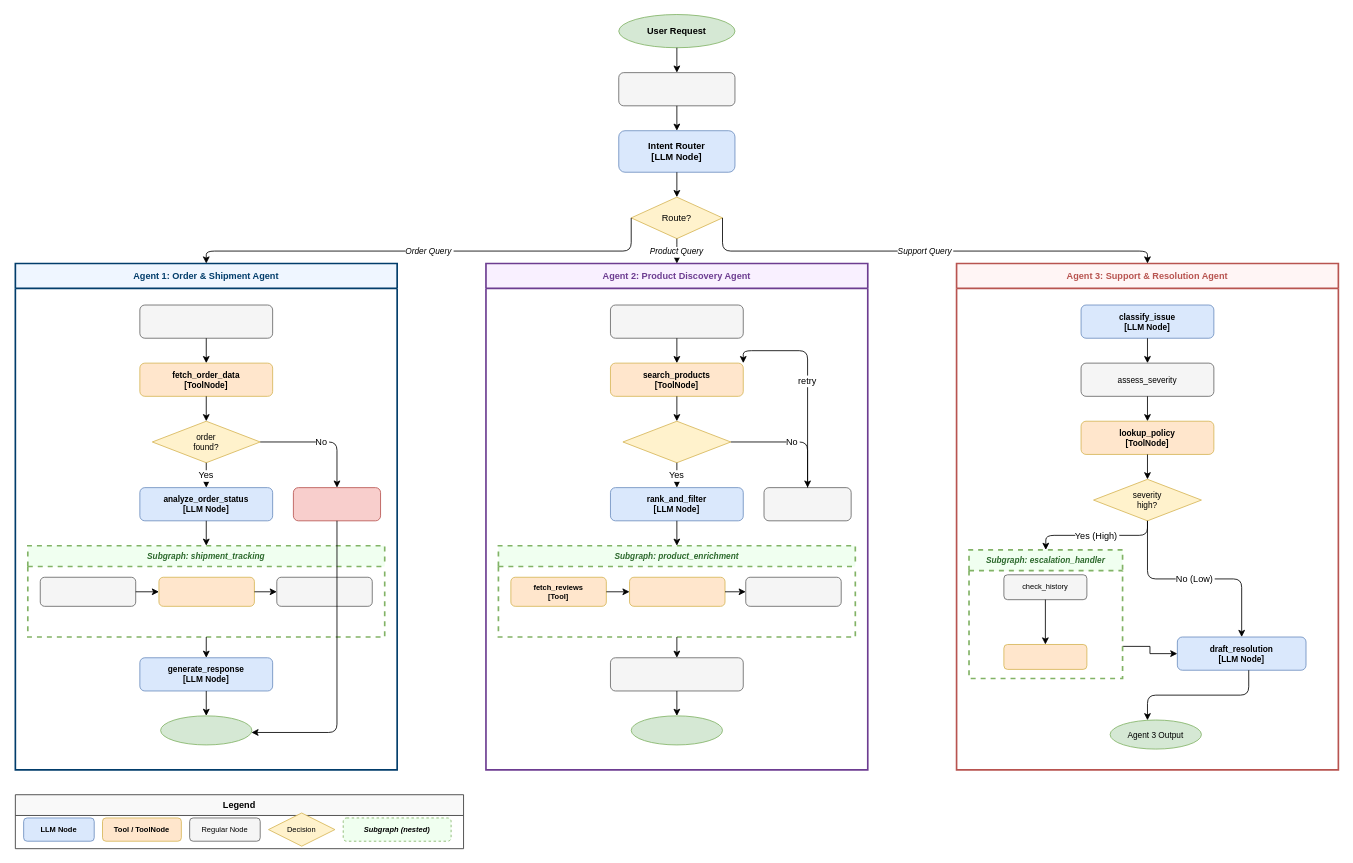
This 1353x863 diagram has some shape labels left out. Each missing label, with the centre of its shape:
Agent 1 Output: the point at 206,730
Agent 2 Output: the point at 676,730
broaden_search (retry): the point at 807,504
compute_score: the point at 793,591
create_ticket [Tool]: the point at 1045,656
error_response: the point at 337,504
extract_preferences: the point at 676,321
FastAPI Endpoint: the point at 676,89
fetch_specs [Tool]: the point at 677,591
fetch_tracking [Tool]: the point at 206,591
format_recommendations: the point at 676,674
get_carrier_info: the point at 87,591
parse_eta: the point at 324,591
results found?: the point at 676,441
validate_input: the point at 206,321
